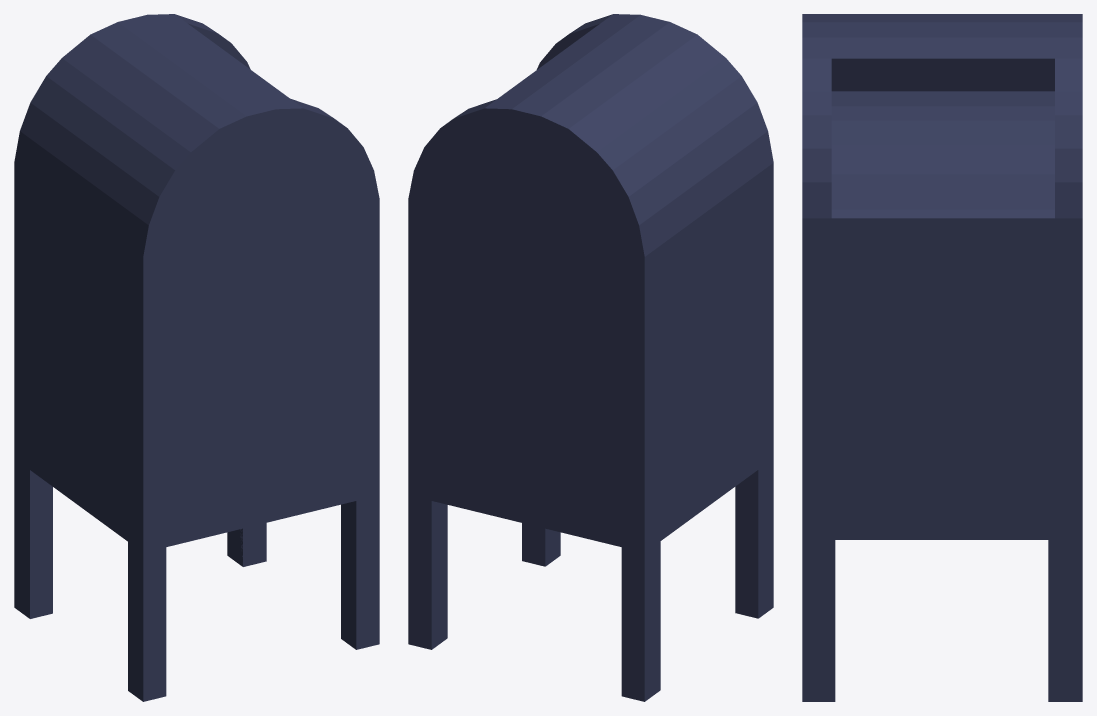
The model's file is 9-5_mailbox.fbx.
3 renders of one model, left to right at view 1: azimuth 30°, elevation 25°; view 2: azimuth 150°, elevation 25°; view 3: azimuth 270°, elevation 25°, orthographic. The views are drawn at different scales.
Visible parts, largest first — view 1: Cube; view 2: Cube; view 3: Cube.
Part boxes in pixels (box(x1,y1,x2,y2)): Cube: box(14, 14, 379, 701); Cube: box(408, 14, 773, 701); Cube: box(802, 14, 1082, 701).
Size of the model in its own units: 159 by 359 by 150.
